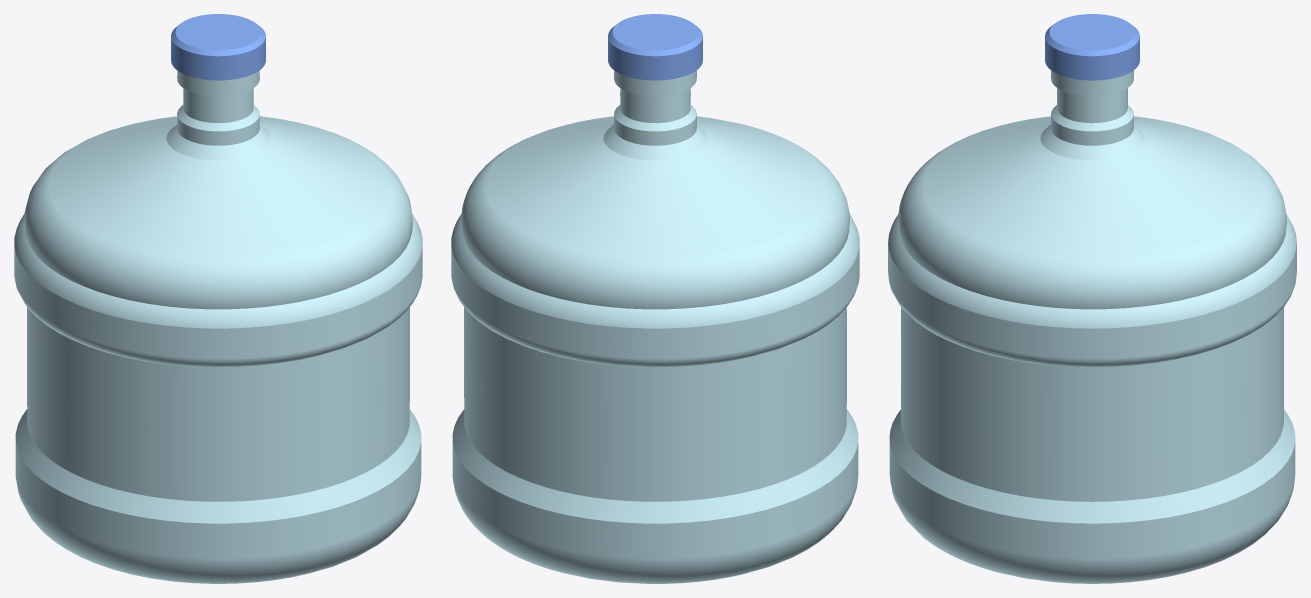
The model's file is 1087_ウォーターサーバーの水タンク.glb.
The picture shows the model from 3 angles, left to right: view 1: azimuth 30°, elevation 25°; view 2: azimuth 150°, elevation 25°; view 3: azimuth 270°, elevation 25°; orthographic projection.
Visible parts, largest first — view 1: Body1, Body2; view 2: Body1, Body2; view 3: Body1, Body2.
Part boxes in pixels (x1,y1,x2,y2): Body1: (14,70,422,583); Body2: (171,14,265,80); Body1: (451,70,859,583); Body2: (608,14,702,80); Body1: (888,70,1296,583); Body2: (1045,14,1139,80).
Size of the model in its own units: 0.2775 by 0.36 by 0.2775.
